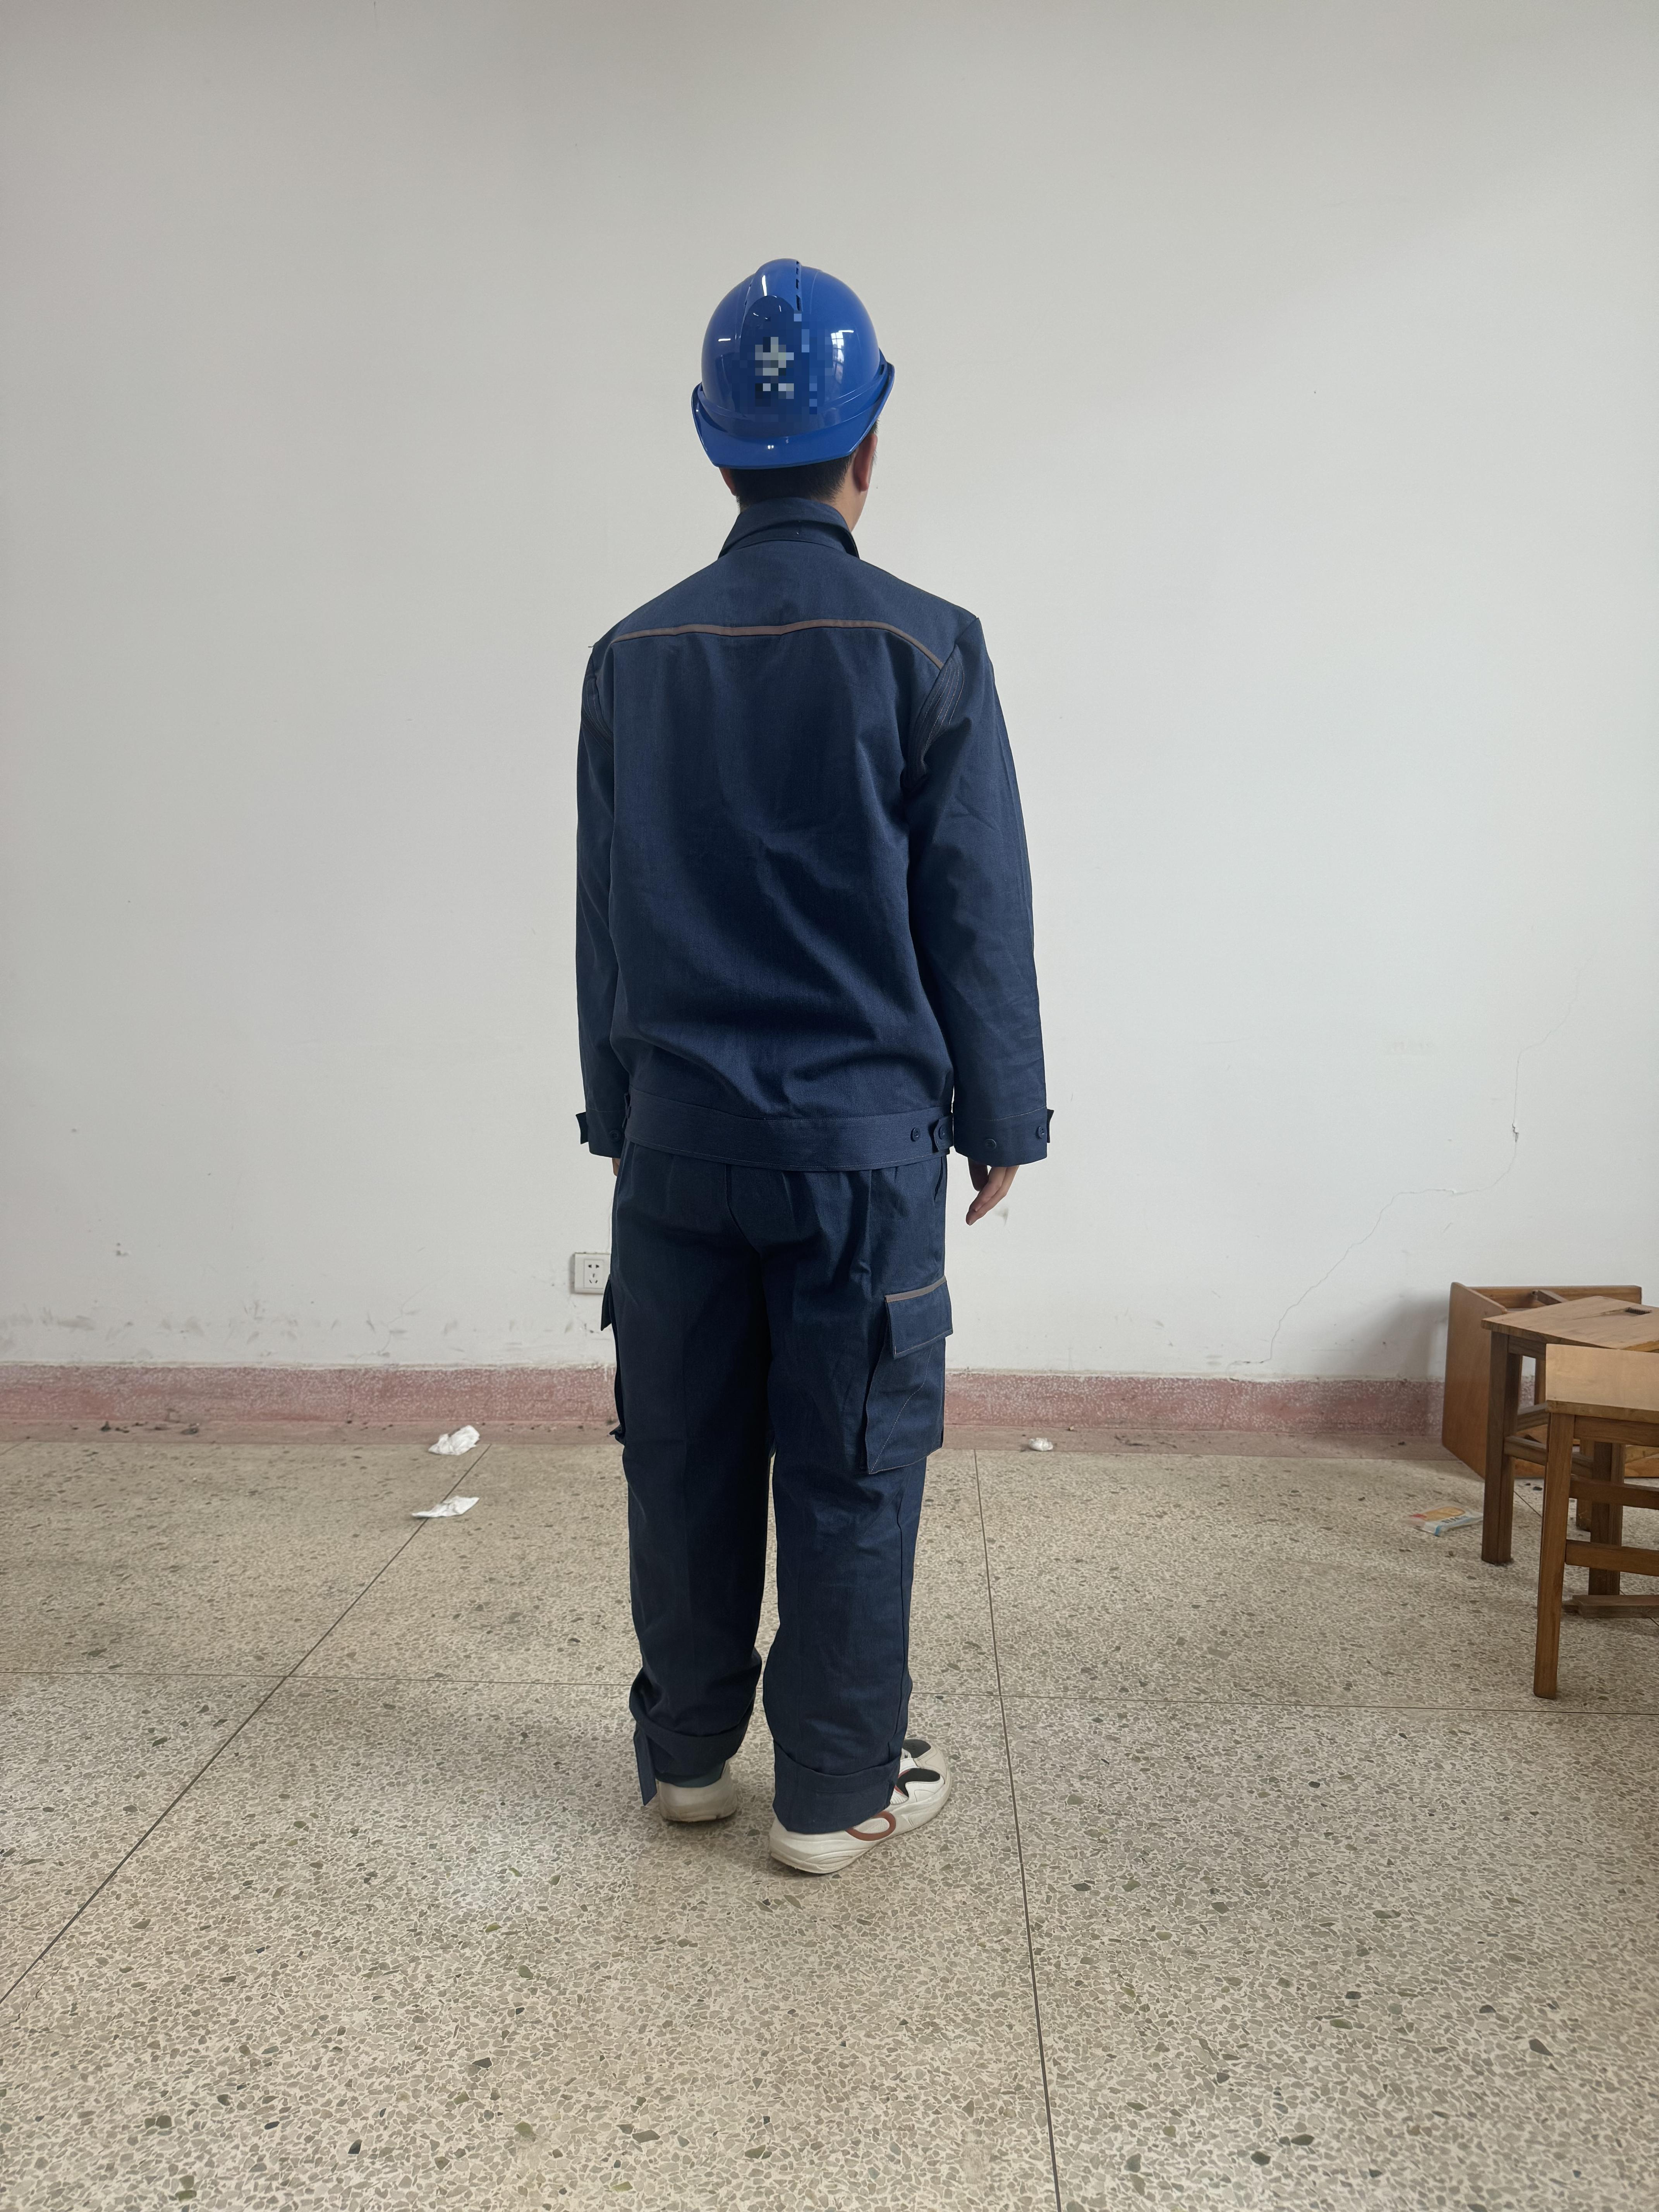noear: (843, 428, 885, 503)
